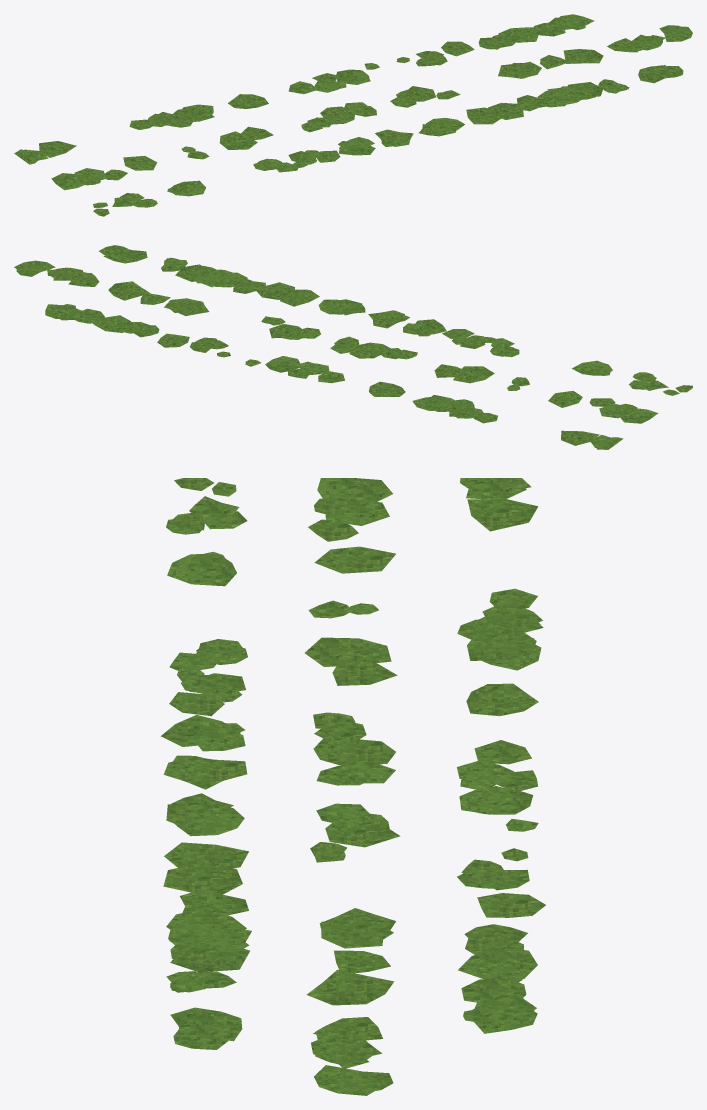
File: kolej_porost_rovna_2.glb
3 renders of one model, top to bottom at view 1: azimuth 30°, elevation 25°; view 2: azimuth 150°, elevation 25°; view 3: azimuth 270°, elevation 25°, orthographic. The views are drawn at different scales.
Visible parts, largest first — view 1: kolej_porost_rovna_2; view 2: kolej_porost_rovna_2; view 3: kolej_porost_rovna_2.
Part boxes in pixels (bbox=[...]): kolej_porost_rovna_2: bbox=[14, 14, 692, 216]; kolej_porost_rovna_2: bbox=[14, 245, 692, 449]; kolej_porost_rovna_2: bbox=[161, 478, 545, 1095].
Bounding box in the file's own units: 14.8 × 0 × 3.9.
1 material, 1 textured.
